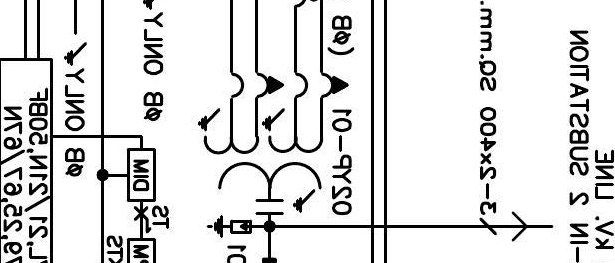115_cvt_1p: (197, 70, 350, 216)
115_la: (206, 215, 252, 239)
DIM: (127, 148, 156, 202)
